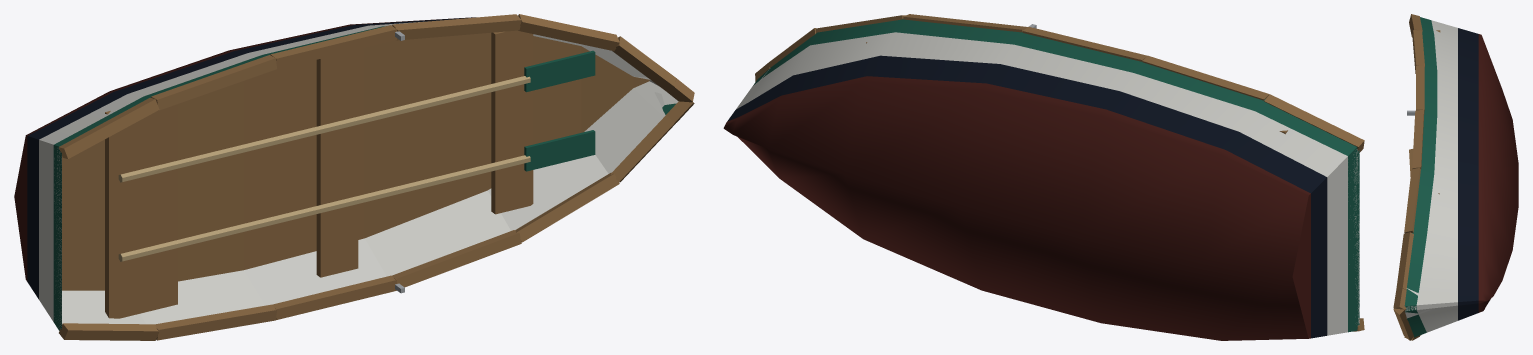
File: boat-row.glb
3 views of the same model, side by side, from view 1: azimuth 30°, elevation 25°; view 2: azimuth 150°, elevation 25°; view 3: azimuth 270°, elevation 25° (orthographic). The views are drawn at different scales.
Parts seen in each view (by area): view 1: boat-row; view 2: boat-row; view 3: boat-row.
Boxes of the visible parts, x1,y1,x2,y2 form: boat-row: (14,14,694,340); boat-row: (723,14,1364,340); boat-row: (1393,14,1518,340).
Size of the model in its own units: 3.61 by 1.46 by 0.847.
